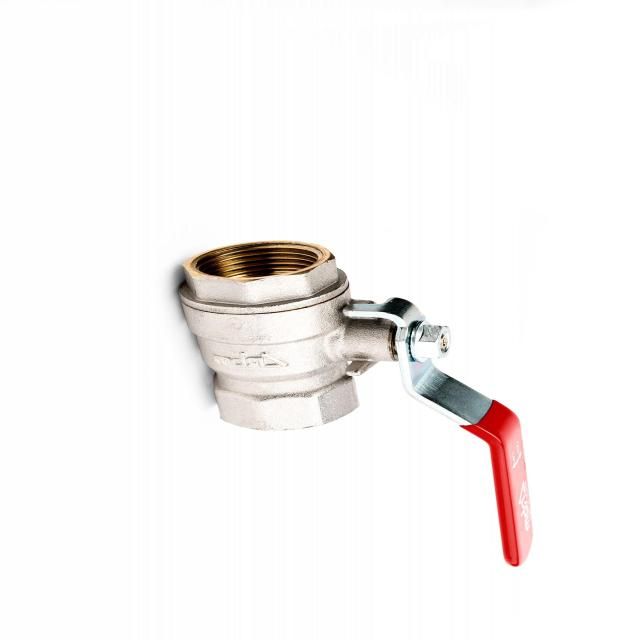opened_valve: (173, 237, 537, 568)
